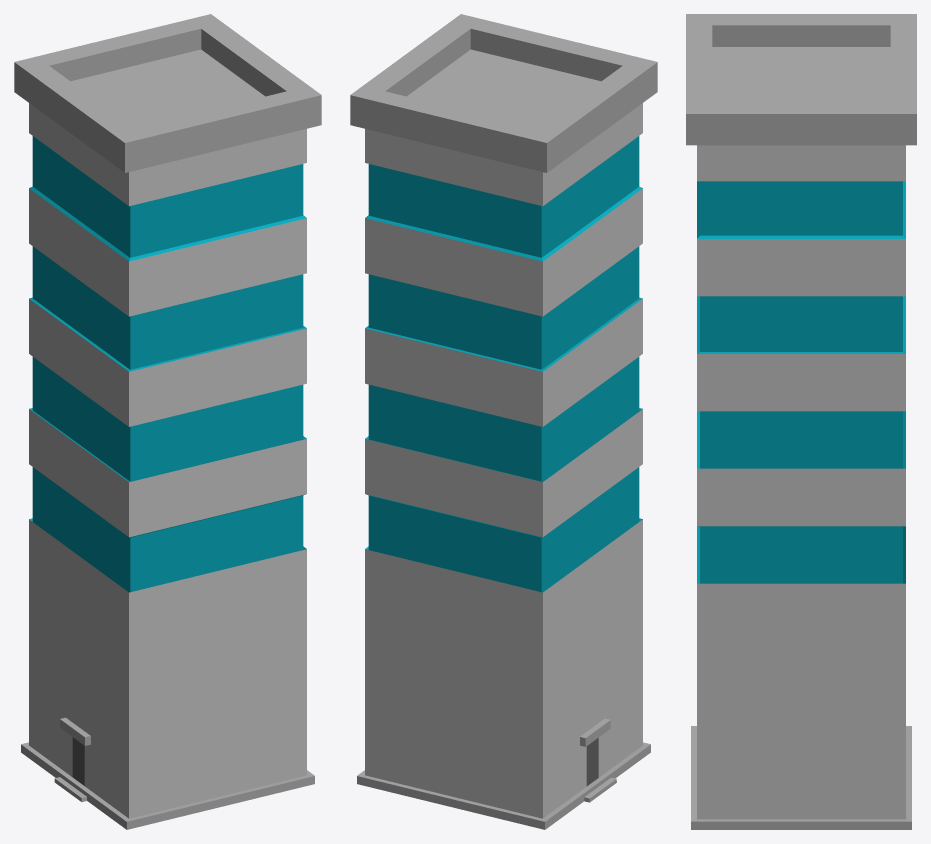
Rendered from buliding2.fbx.
3 renders of one model, left to right at view 1: azimuth 30°, elevation 25°; view 2: azimuth 150°, elevation 25°; view 3: azimuth 270°, elevation 25°, orthographic. The views are drawn at different scales.
Parts seen in each view (by area): view 1: pCube5; view 2: pCube5; view 3: pCube5.
Boxes of the visible parts, box(x1,y1,x2,y2) form: pCube5: box(14, 14, 321, 829); pCube5: box(350, 14, 657, 829); pCube5: box(686, 14, 916, 829).
Size of the model in its own units: 30.49 by 101 by 29.56.
